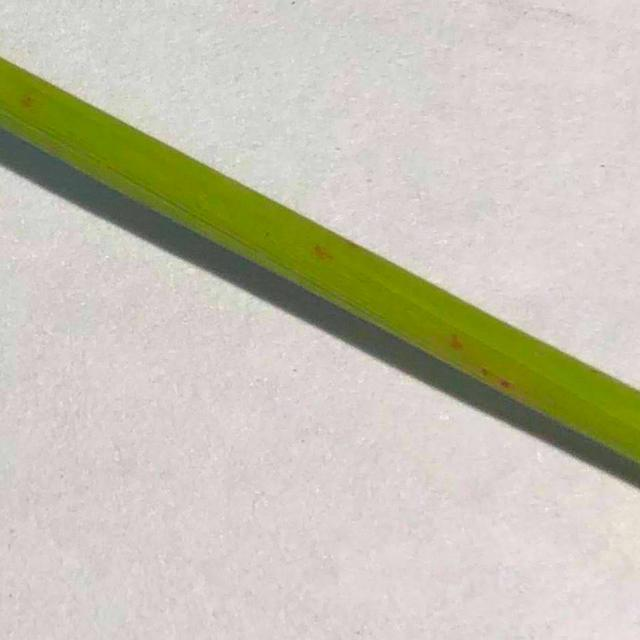brownspots: (444, 326, 520, 392), (11, 86, 47, 118), (306, 238, 344, 268)
